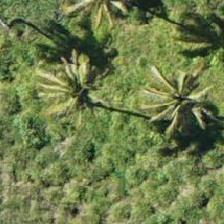coconut_tree: (16, 20, 106, 110), (121, 66, 211, 156)
